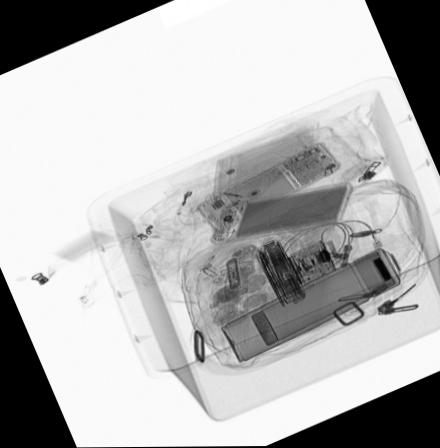Powerbank: (206, 179, 354, 245)
